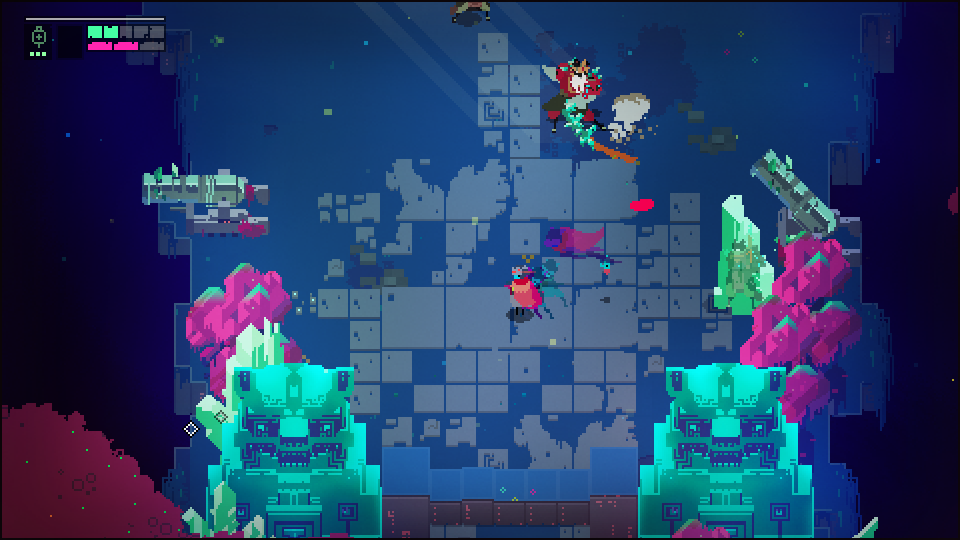hanged_man: (539, 58, 599, 149)
player: (506, 269, 544, 317)
